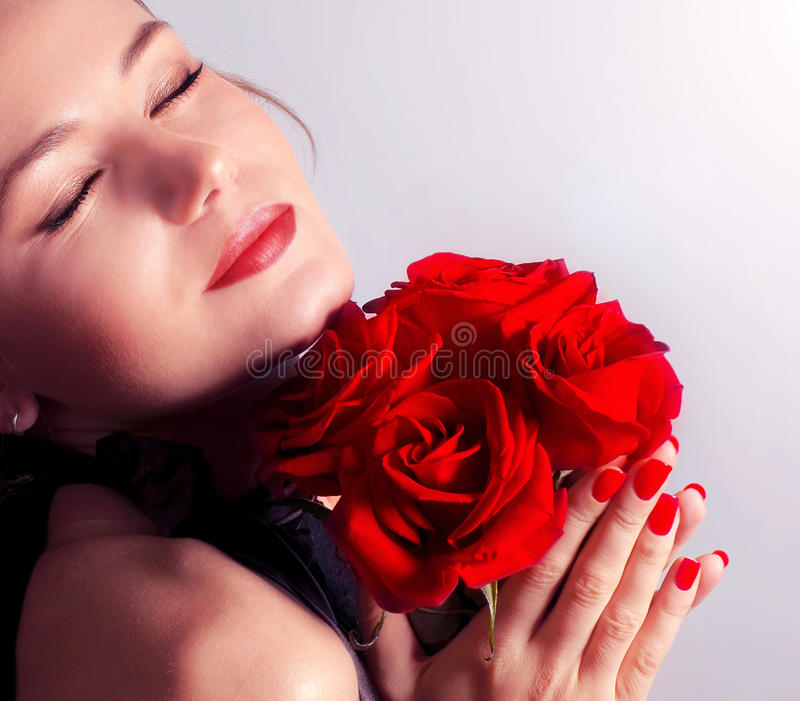RedRose: (330, 375, 565, 606), (248, 298, 445, 486), (514, 309, 681, 490), (391, 246, 612, 362)
